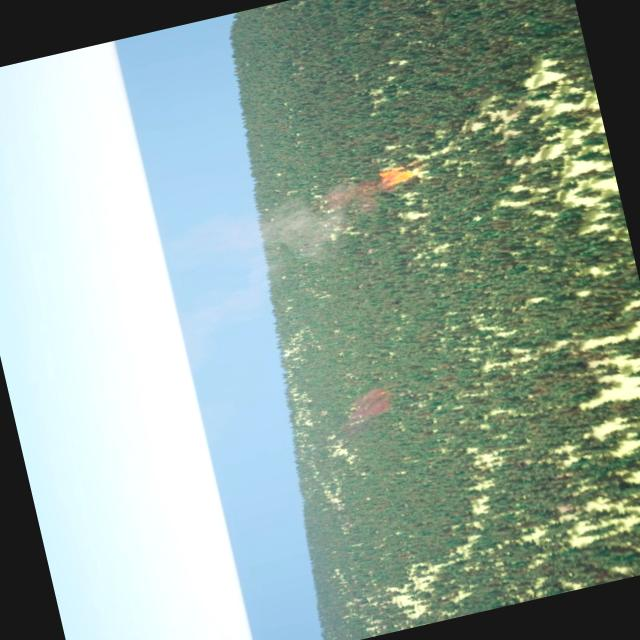fire: (378, 161, 421, 189)
smoke: (156, 172, 394, 334), (342, 381, 400, 422)
